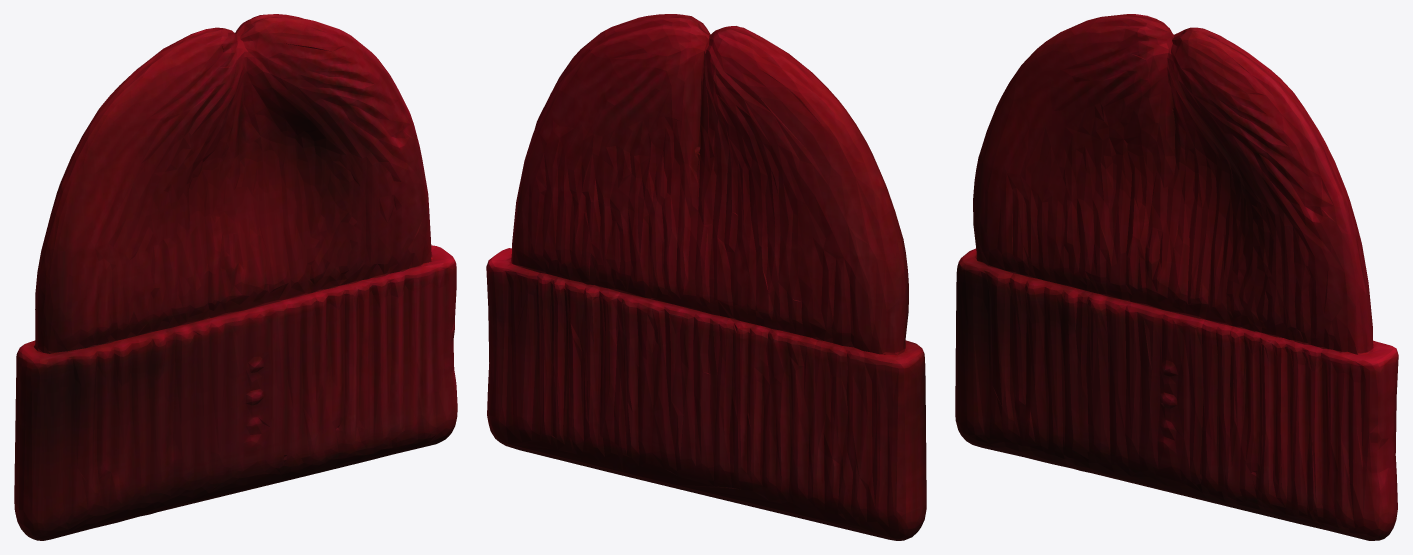
The model's file is mannequin_dressmaker_3.glb.
3 views of the same model, side by side, from view 1: azimuth 30°, elevation 25°; view 2: azimuth 150°, elevation 25°; view 3: azimuth 330°, elevation 25° (orthographic).
Visible parts, largest first — view 1: geometry_0; view 2: geometry_0; view 3: geometry_0.
Boxes of the visible parts, x1,y1,x2,y2 form: geometry_0: [14, 14, 457, 540]; geometry_0: [486, 14, 926, 540]; geometry_0: [955, 14, 1398, 540].
Size of the model in its own units: 0.9639 by 0.9986 by 0.1312.
Materials: 1 (1 with a texture image).
